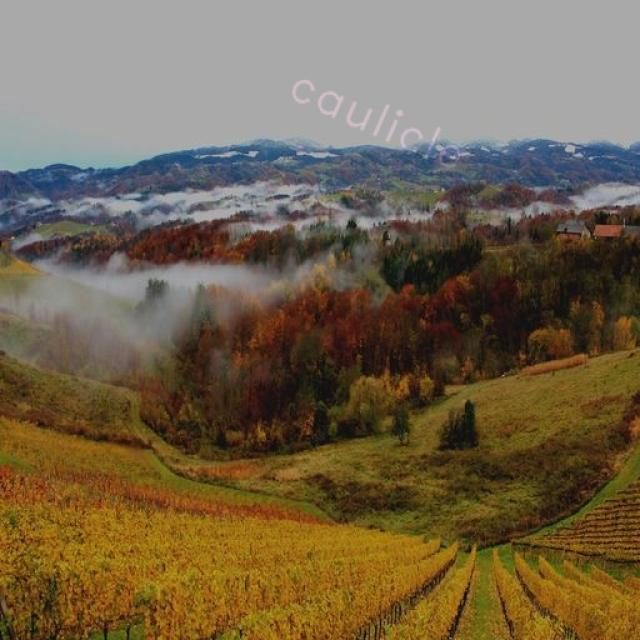watermark: (274, 60, 491, 181)
